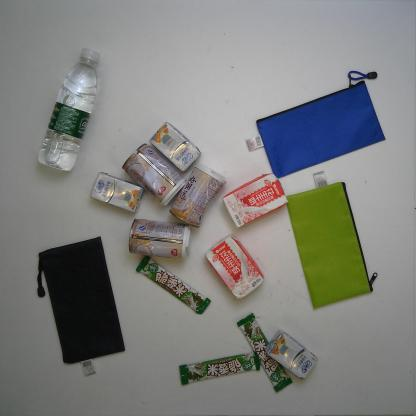Canned Food: (121, 142, 187, 206), (168, 164, 227, 228), (128, 217, 192, 260)
Chocolate: (236, 312, 294, 392), (135, 255, 211, 315), (178, 350, 261, 386)
Drink: (38, 48, 100, 174)
Milk: (205, 233, 265, 300), (222, 171, 290, 229), (264, 328, 318, 380), (149, 121, 202, 173), (89, 171, 144, 213)
Stationery: (245, 68, 388, 178), (286, 168, 378, 309), (37, 236, 127, 377)
